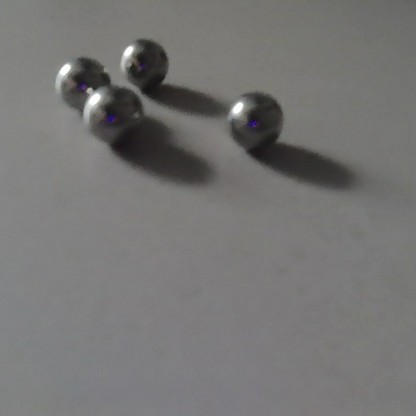ironball: (222, 87, 291, 155), (83, 86, 148, 143), (117, 35, 171, 92), (51, 56, 113, 103)
